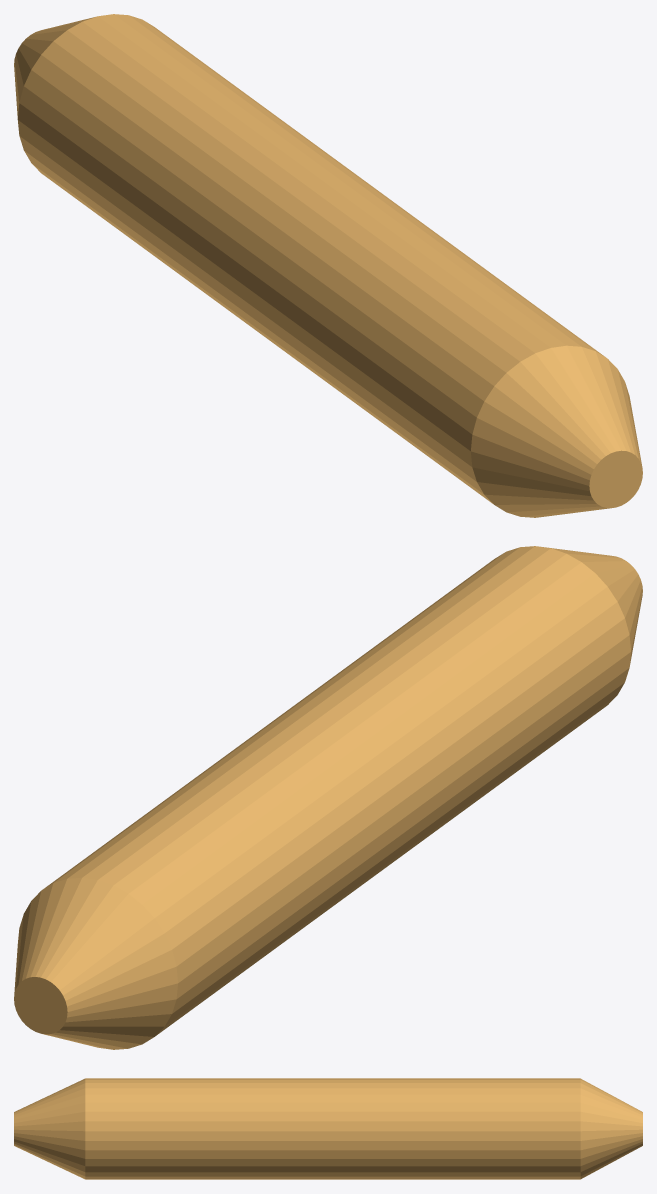
File: bails.fbx
3 renders of one model, top to bottom at view 1: azimuth 30°, elevation 25°; view 2: azimuth 150°, elevation 25°; view 3: azimuth 270°, elevation 25°, orthographic. The views are drawn at different scales.
Parts seen in each view (by area): view 1: Cylinder.003; view 2: Cylinder.003; view 3: Cylinder.003.
Part boxes in pixels (bbox=[...]): Cylinder.003: bbox=[14, 14, 642, 517]; Cylinder.003: bbox=[14, 546, 642, 1049]; Cylinder.003: bbox=[14, 1078, 642, 1179].
Bounding box in the file's own units: 3.36 × 3.36 × 20.87.
